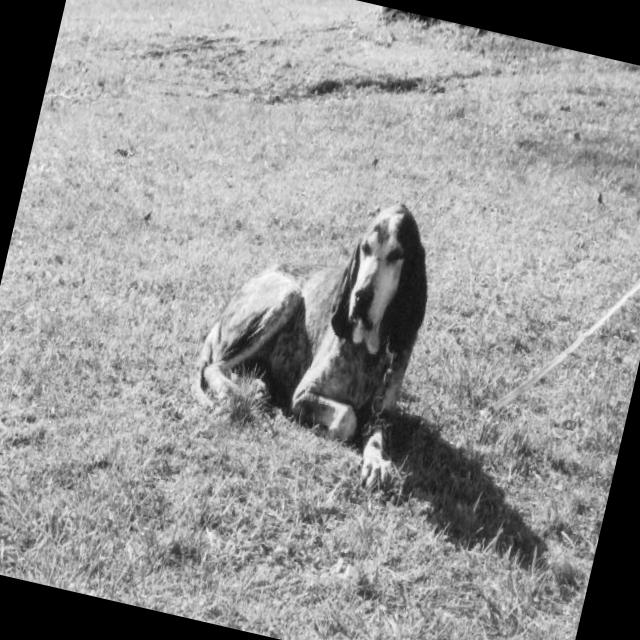laying down: (168, 158, 468, 502)
